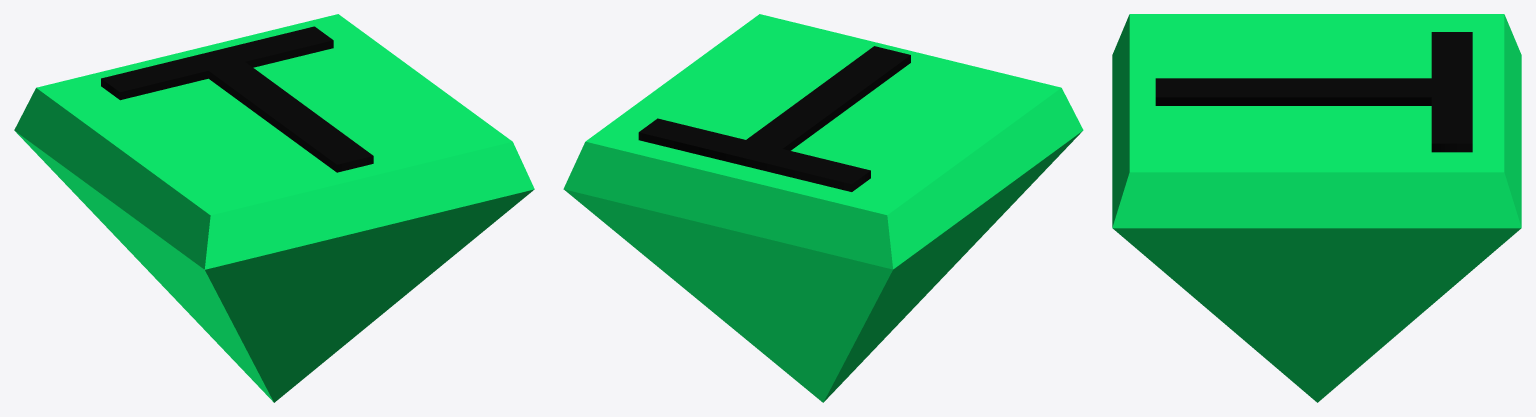
The model's file is CameraTarget.fbx.
3 renders of one model, left to right at view 1: azimuth 30°, elevation 25°; view 2: azimuth 150°, elevation 25°; view 3: azimuth 270°, elevation 25°, orthographic. The views are drawn at different scales.
Parts seen in each view (by area): view 1: 立方体, テキスト; view 2: 立方体, テキスト; view 3: 立方体, テキスト.
Boxes of the visible parts, box(x1,y1,x2,y2) form: 立方体: box(14, 14, 534, 402); テキスト: box(101, 26, 373, 172); 立方体: box(563, 14, 1083, 402); テキスト: box(638, 46, 910, 191); 立方体: box(1112, 14, 1521, 402); テキスト: box(1155, 32, 1472, 152).
Bounding box in the file's own units: 218 × 187 × 218.
2 materials, 2 textured.
